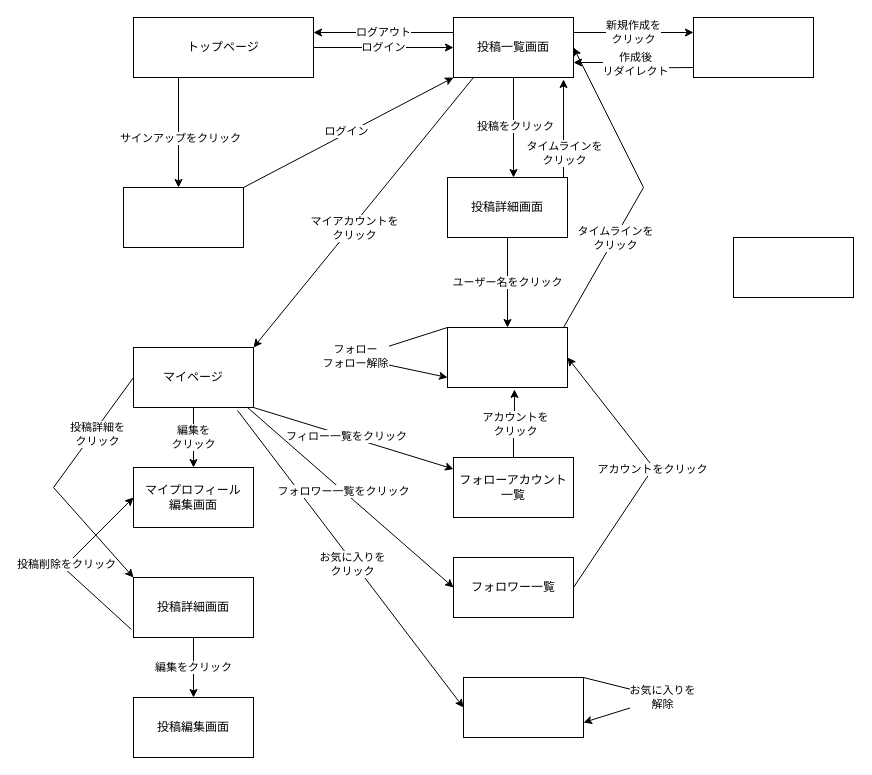
Some shapes in this 872 by 775 pixel diagram are drawn without their labels. Each missing label, with the centre of its shape:
"お気に入り 一覧画面" belongs at point 523,707.
"サインアップ画面" belongs at point 183,217.
"ユーザー詳細ページ" belongs at point 507,357.
"全てのページから ログアウトが可能" belongs at point 793,267.
"投稿新規作成画面" belongs at point 753,47.
